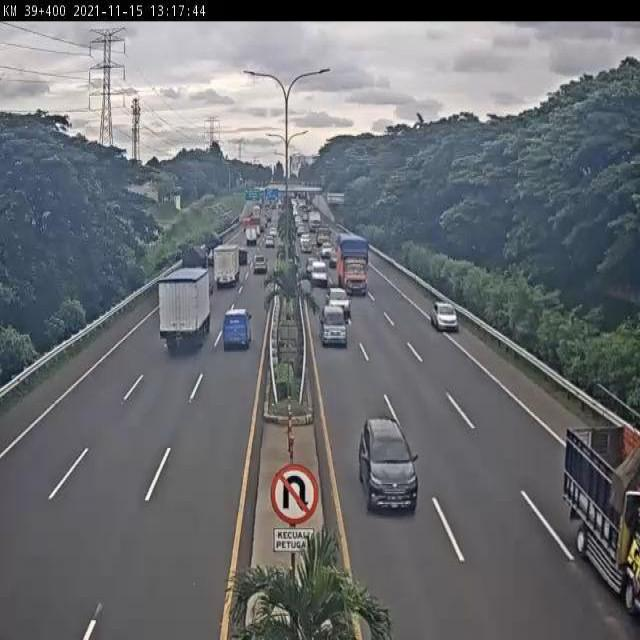bus-s-: (222, 305, 251, 352), (311, 260, 329, 289)
car: (358, 411, 417, 513), (320, 302, 348, 350), (429, 298, 459, 334), (325, 284, 351, 316), (251, 252, 270, 279)
truck-m-: (156, 268, 212, 353), (335, 231, 369, 293), (212, 240, 239, 288)
